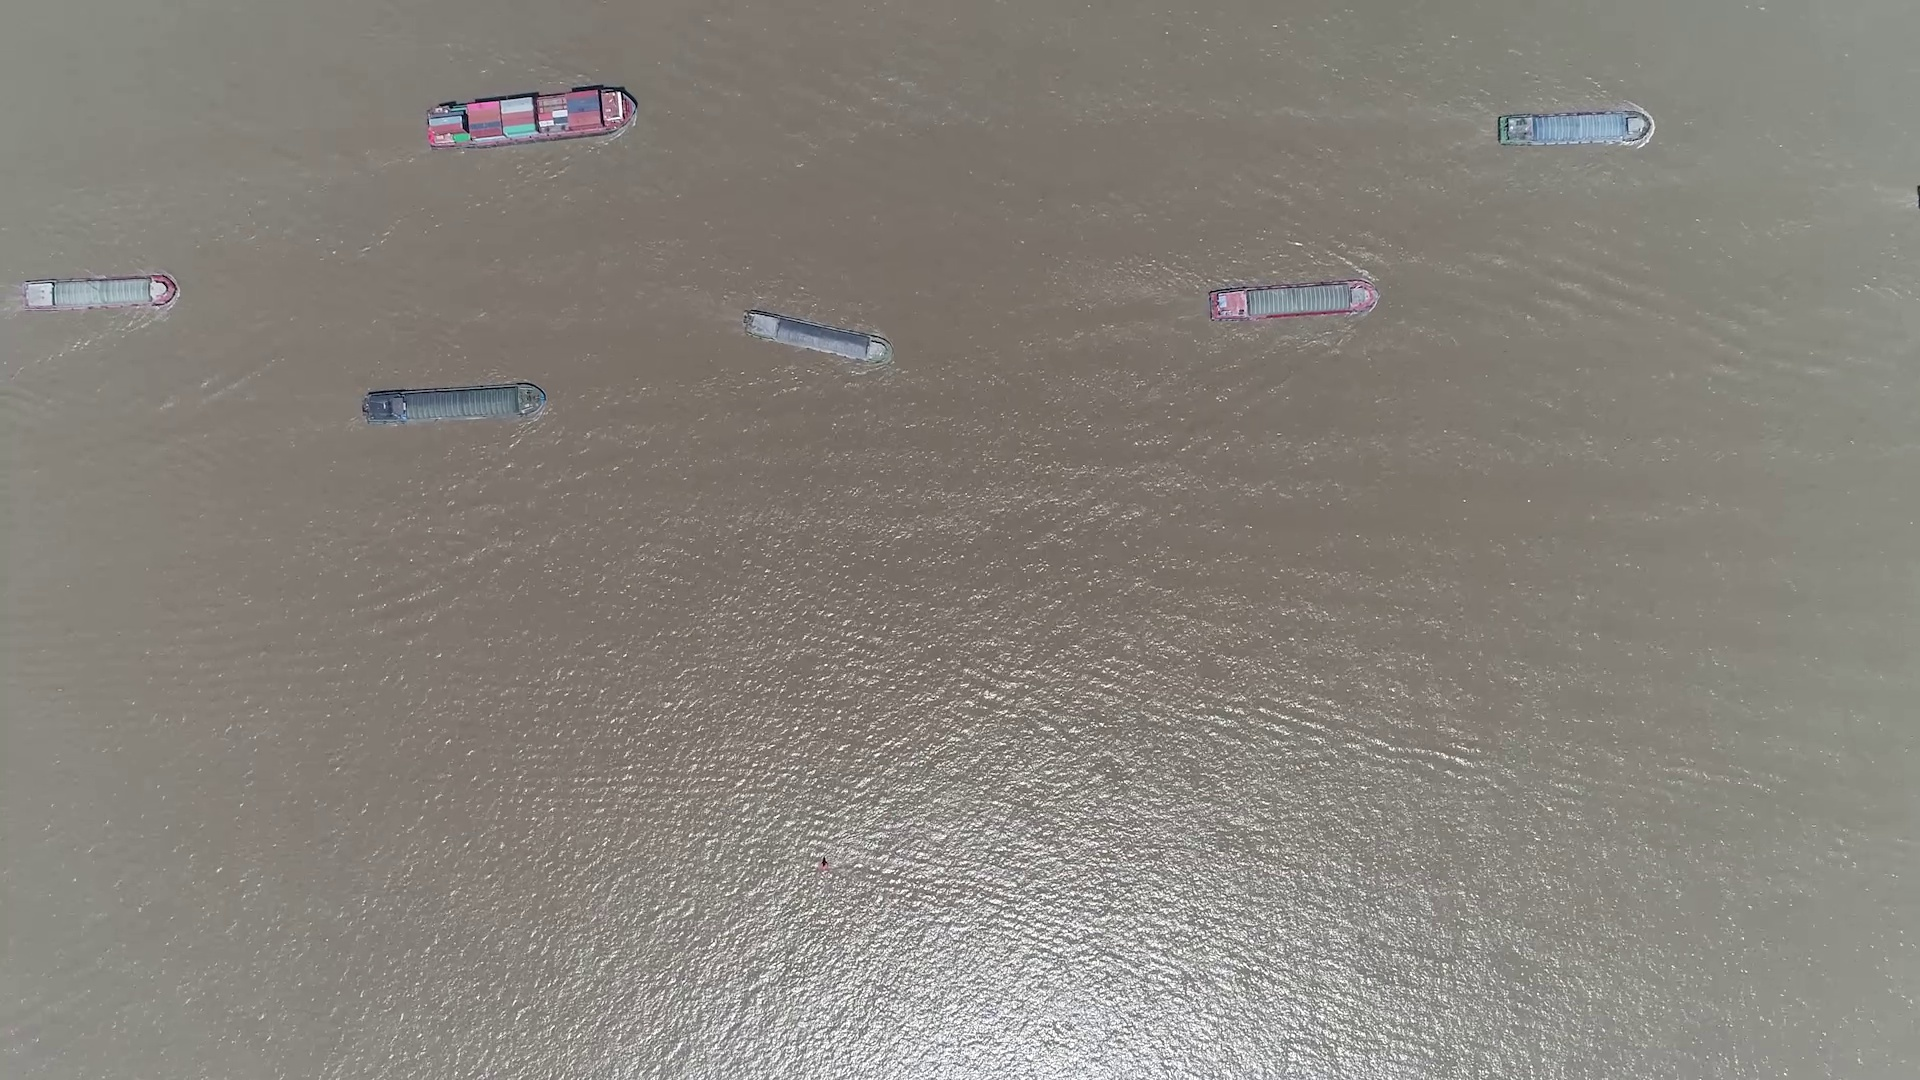ship: (426, 88, 640, 146), (742, 309, 891, 363), (363, 385, 546, 426), (1207, 280, 1378, 320), (1499, 109, 1652, 146), (21, 276, 177, 310)
